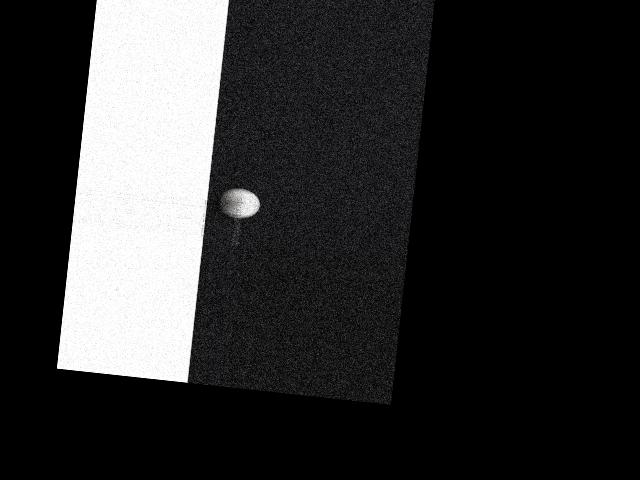egg: (217, 186, 261, 220)
